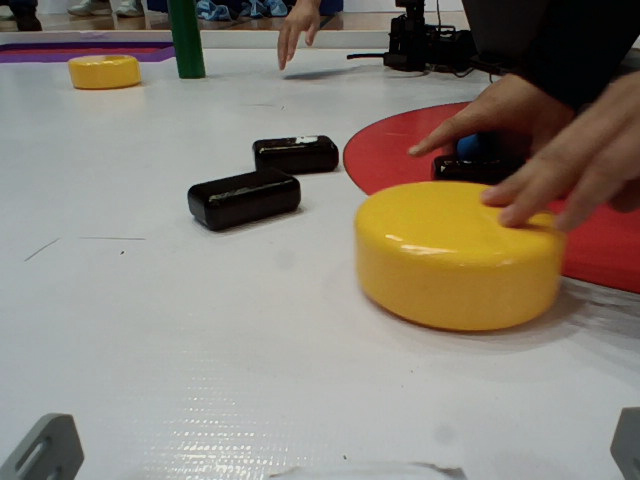black: (173, 173, 338, 236), (230, 134, 357, 178), (431, 153, 552, 196)
blue: (456, 122, 513, 164)
kuang: (1, 32, 178, 68)
yellow: (352, 178, 580, 336), (63, 53, 152, 97)
zhuzi: (152, 1, 213, 90)
